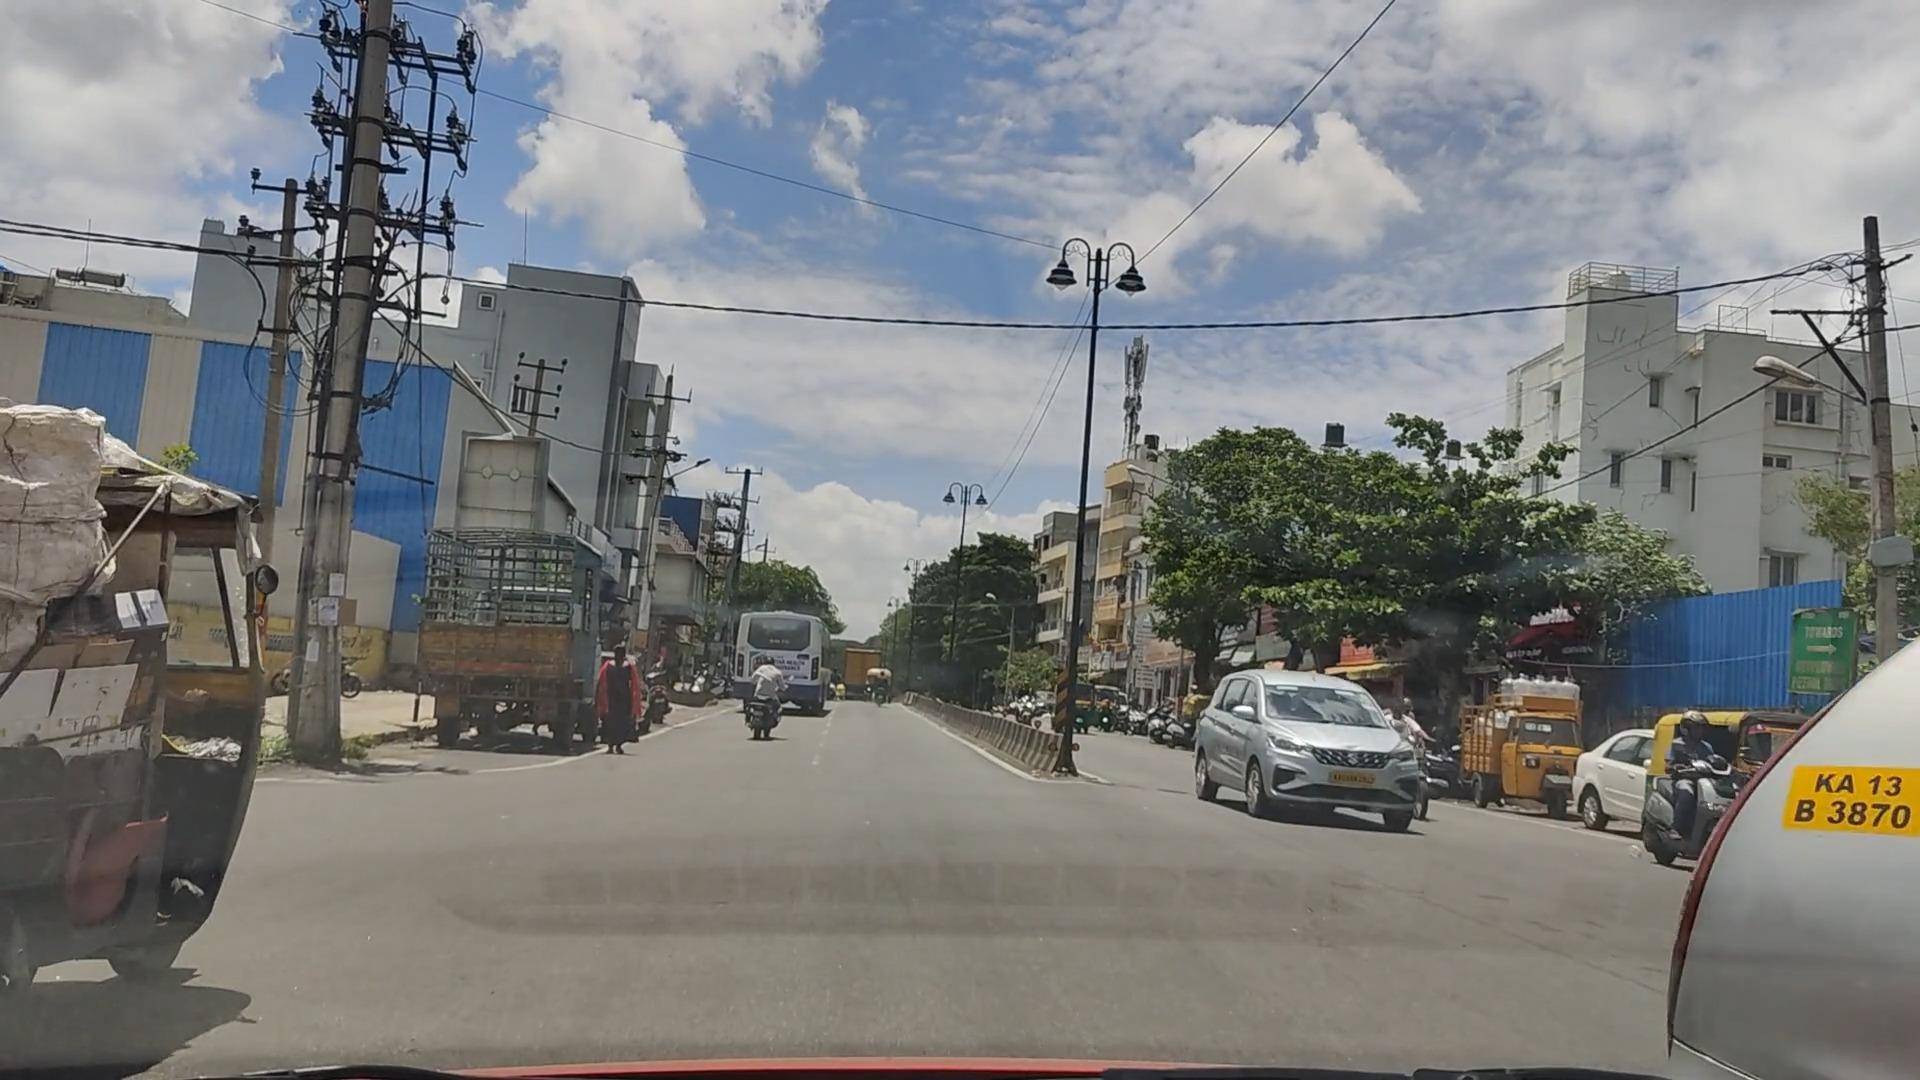LMV: (0, 407, 281, 1022)
